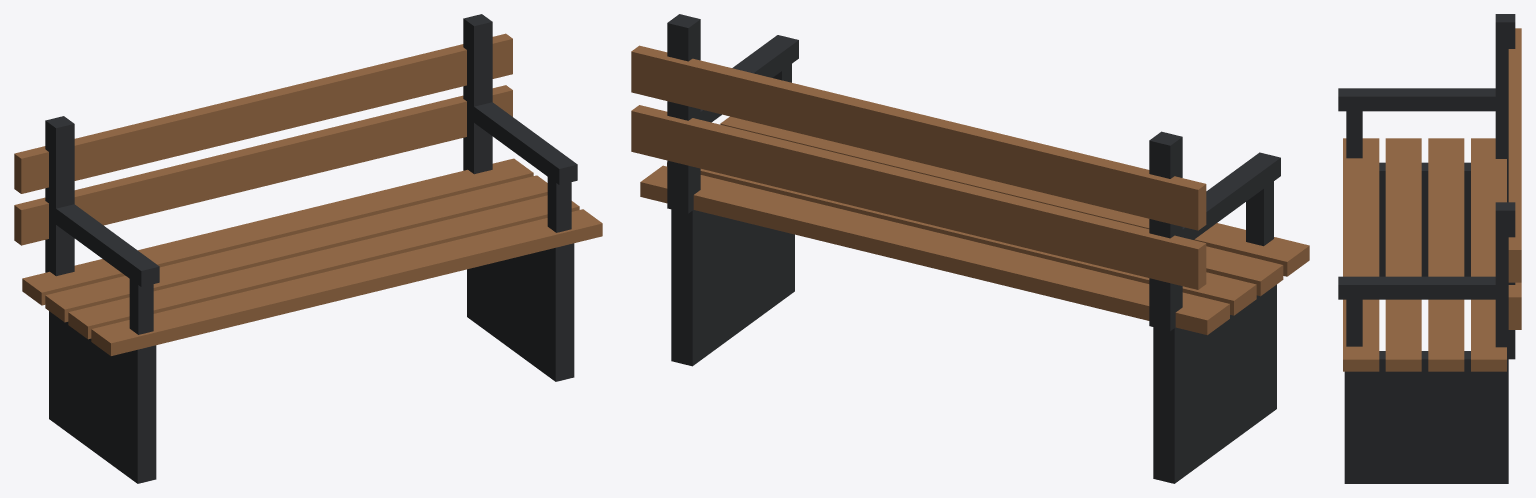
Rendered from bench.glb.
3 renders of one model, left to right at view 1: azimuth 30°, elevation 25°; view 2: azimuth 150°, elevation 25°; view 3: azimuth 270°, elevation 25°, orthographic. The views are drawn at different scales.
Visible parts, largest first — view 1: back_slat_1, back_slat_0, seat_0, leg_l, seat_2, leg_r, seat_1, seat_3, back_l, back_r, arm_r, arm_l (+2 smaller); view 2: back_slat_1, back_slat_0, seat_3, leg_l, leg_r, seat_0, seat_2, back_r, back_l, arm_l, seat_1, arm_r (+1 smaller); view 3: leg_r, seat_1, seat_2, seat_0, seat_3, arm_l, arm_r, back_slat_1, leg_l, back_r, back_l, armpost_l (+2 smaller).
Part boxes in pixels (x1,y1,x2,y2): back_slat_1: (14, 33, 512, 193); back_slat_0: (14, 85, 512, 245); seat_0: (91, 209, 602, 355); leg_l: (49, 311, 156, 483); seat_2: (45, 175, 547, 322); leg_r: (467, 243, 574, 381); seat_1: (68, 195, 579, 339); seat_3: (22, 158, 533, 305); back_l: (45, 116, 74, 276); back_r: (463, 14, 492, 174); arm_r: (470, 102, 577, 184); arm_l: (52, 204, 159, 286); back_slat_1: (631, 45, 1206, 230); back_slat_0: (631, 105, 1206, 289); seat_3: (640, 165, 1229, 335); leg_l: (1153, 284, 1276, 483); leg_r: (671, 209, 794, 366); seat_0: (720, 116, 1309, 276); seat_2: (667, 162, 1256, 315); back_r: (667, 14, 700, 213); back_l: (1149, 131, 1182, 330); arm_l: (1178, 152, 1280, 239); seat_1: (1206, 246, 1283, 296); arm_r: (700, 35, 798, 122); leg_r: (1344, 351, 1508, 483); seat_1: (1385, 138, 1421, 371); seat_2: (1428, 138, 1464, 371); seat_0: (1343, 138, 1379, 371); seat_3: (1471, 138, 1506, 371); arm_l: (1338, 88, 1501, 111); arm_r: (1338, 276, 1501, 299); back_slat_1: (1508, 28, 1521, 282); leg_l: (1379, 162, 1508, 276); back_r: (1495, 202, 1515, 359); back_l: (1495, 14, 1515, 170); armpost_l: (1346, 111, 1362, 158).
Size of the model in its own units: 1.6 by 0.92 by 0.56.
